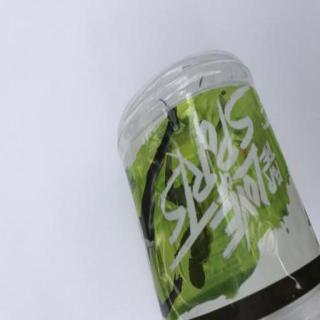Plastic-bottle: (117, 50, 320, 320)
